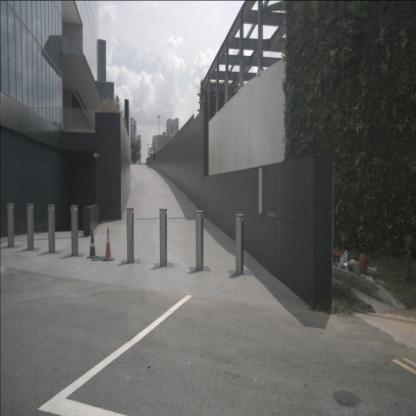cone: (100, 226, 116, 262), (86, 227, 98, 259)
